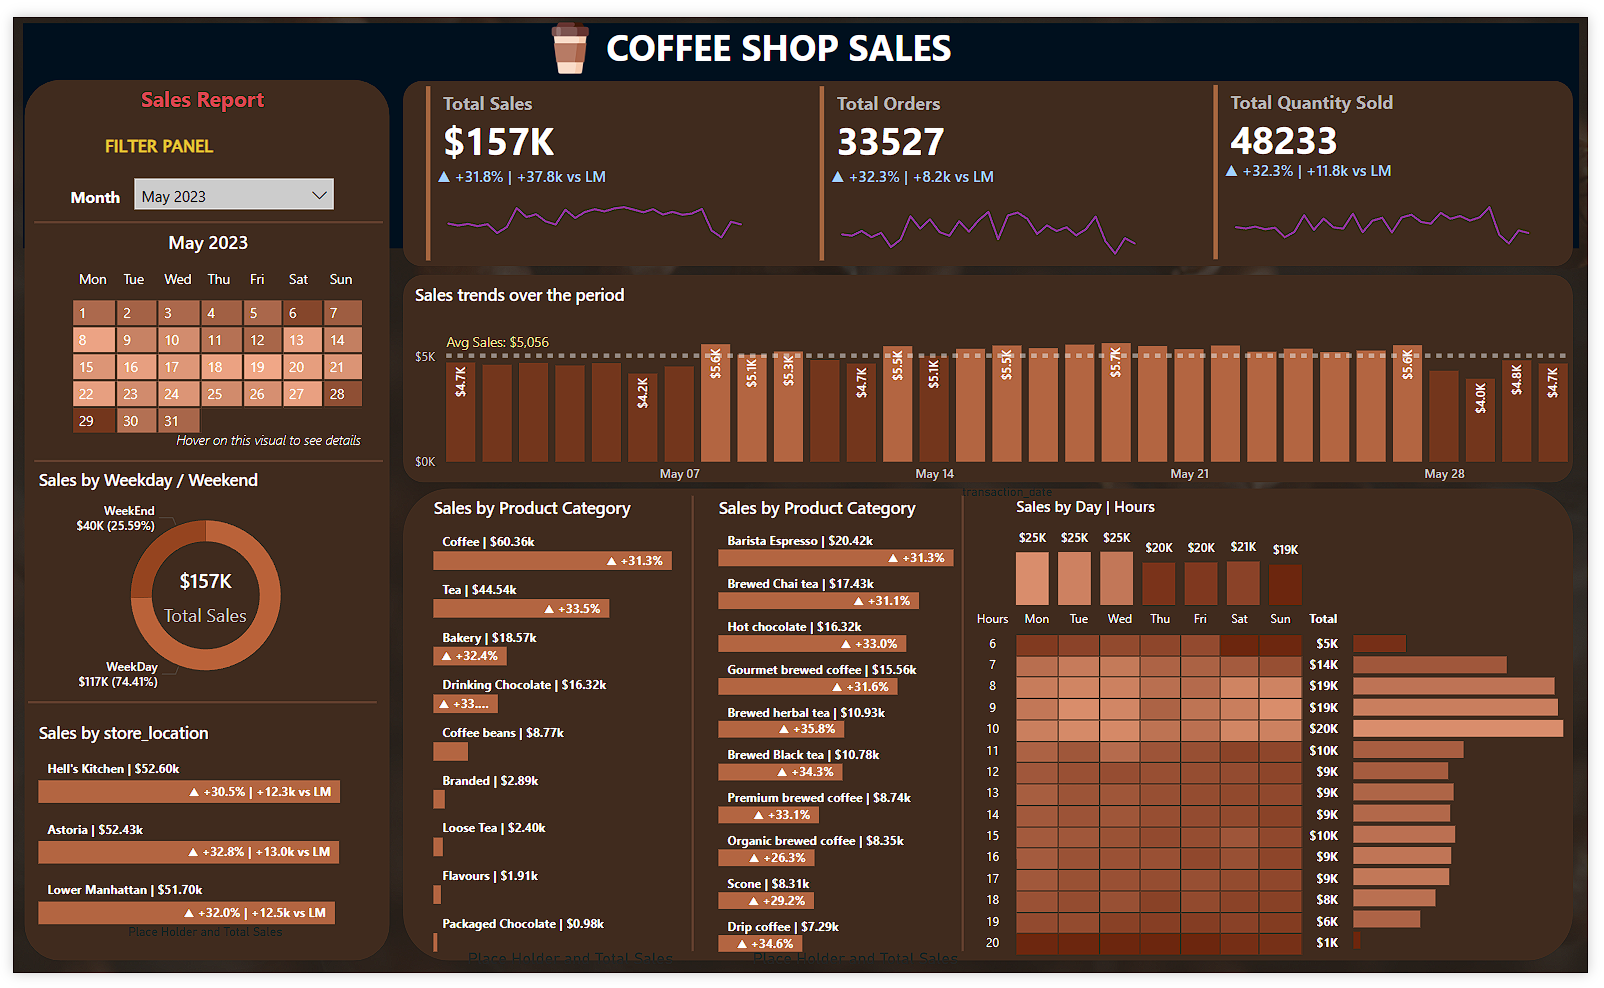

The page's visual inventory and layout, read from the dashboard file:
{"tool":"powerbi","page":{"name":"Coffeesales Report","canvas":[1400,850],"ordinal":0},"visuals":[{"type":"shape","box":[8.3,5,1383.3,200],"z":0},{"type":"shape","box":[10,55,325,783.3],"z":1000},{"type":"shape","box":[346.7,56.7,1040,165],"z":2000},{"type":"textbox","box":[521.7,0,350,53.3],"z":3000},{"type":"slicer","fields":{"Values":["Calender Table.Month Year"]},"box":[103.3,138.3,186.7,41.7],"z":4000},{"type":"cardVisual","fields":{"Data":["Transactions.Total Quantity Sold"]},"box":[1061.7,55.7,300,165],"z":5000,"group":"g3"},{"type":"cardVisual","fields":{"Data":["Transactions.Total Orders"]},"box":[711.7,56.4,300,165],"z":5000,"group":"g2"},{"type":"group","id":"g1","title":"Group 1","box":[361.7,56.7,300,165],"z":5000},{"type":"cardVisual","fields":{"Data":["Transactions.Total Sales"]},"box":[361.7,56.7,300,165],"z":5000,"group":"g1"},{"type":"group","id":"g2","title":"Group 1","box":[711.7,56.4,300,165],"z":6000},{"type":"lineChart","fields":{"Category":["Calender Table.Date.Variation.Date Hierarchy.Year","Calender Table.Date.Variation.Date Hierarchy.Quarter","Calender Table.Date.Variation.Date Hierarchy.Month","Calender Table.Date.Variation.Date Hierarchy.Day"],"Y":["Transactions.Total Quantity Sold"]},"box":[1071.7,126.3,290,85],"z":6000,"group":"g3"},{"type":"lineChart","fields":{"Category":["Calender Table.Date.Variation.Date Hierarchy.Year","Calender Table.Date.Variation.Date Hierarchy.Quarter","Calender Table.Date.Variation.Date Hierarchy.Month","Calender Table.Date.Variation.Date Hierarchy.Day"],"Y":["Transactions.Total Orders"]},"box":[721.7,131.4,290,85],"z":6000,"group":"g2"},{"type":"lineChart","fields":{"Category":["Calender Table.Date.Variation.Date Hierarchy.Year","Calender Table.Date.Variation.Date Hierarchy.Quarter","Calender Table.Date.Variation.Date Hierarchy.Month","Calender Table.Date.Variation.Date Hierarchy.Day"],"Y":["Transactions.Total Sales"]},"box":[371.7,131.7,290,85],"z":6000,"group":"g1"},{"type":"group","id":"g3","title":"Group 1","box":[1061.7,55.7,300,165],"z":7000},{"type":"pivotTable","fields":{"Rows":["Calender Table.Week Number"],"Columns":["Calender Table.Day Name"],"Values":["Min(Calender Table.Day Number)"]},"box":[22.5,216.2,302.5,178.8],"z":8000},{"type":"card","fields":{"Values":["Min(Calender Table.Month Year)"]},"box":[128.8,182.5,90,40],"z":9000},{"type":"card","fields":{"Values":["Transactions.Foot Note"]},"box":[131.2,360,192.5,37.5],"z":10000},{"type":"shape","box":[18.8,387.5,310,13.8],"z":11000},{"type":"shape","box":[18.8,175,310,13.8],"z":12000},{"type":"donutChart","title":"Sales by Weekday / Weekend","fields":{"Category":["Calender Table.Weekday / Weekend"],"Y":["Transactions.Total Sales"]},"box":[17.5,401.2,307.5,206.2],"z":13000},{"type":"card","fields":{"Values":["Transactions.Total Sales"]},"box":[126.2,482.5,88.8,63.8],"z":14000},{"type":"shape","box":[13.8,602.5,310,13.8],"z":15000},{"type":"clusteredBarChart","title":"Sales by store_location","fields":{"Y":["Transactions.Place Holder","Transactions.Total Sales"],"Category":["Transactions.store_location"]},"box":[17.5,625,306.2,198.8],"z":16000},{"type":"shape","box":[346.7,228.3,1040,185],"z":17000},{"type":"shape","box":[346.7,418.3,1040,420],"z":18000},{"type":"columnChart","title":"Sales trends over the period","fields":{"Category":["Transactions.transaction_date"],"Y":["Transactions.Total Sales"]},"box":[351.7,236.7,1040,196.7],"z":19000},{"type":"clusteredBarChart","title":"Sales by Product Category","fields":{"Y":["Transactions.Place Holder","Transactions.Total Sales"],"Category":["Transactions.product_category"]},"box":[368.3,425,253.3,425],"z":20000},{"type":"shape","box":[586.7,425,35,405],"z":21000},{"type":"clusteredBarChart","title":"Sales by Product Category","fields":{"Y":["Transactions.Place Holder","Transactions.Total Sales"],"Category":["Transactions.product_type"]},"box":[621.7,425,253.3,425],"z":22000},{"type":"shape","box":[826.7,425,35,405],"z":23000},{"type":"pivotTable","fields":{"Rows":["Transactions.Hours"],"Values":["Transactions.Total Sales"],"Columns":["Calender Table.Day Name"]},"box":[845,521.7,355,320],"z":24000},{"type":"barChart","fields":{"Category":["Transactions.Hours"],"Y":["Transactions.Total Sales"]},"box":[1186.7,536.7,200,296.7],"z":25000},{"type":"clusteredColumnChart","title":"Sales by Day | Hours","fields":{"Y":["Transactions.Total Sales"],"Category":["Calender Table.Day Name"]},"box":[886.7,425,265,103.3],"z":26000},{"type":"textbox","box":[36.7,143.3,80,30],"z":27000},{"type":"textbox","box":[103.3,55,130,43.3],"z":28000},{"type":"textbox","box":[61.7,98.3,135,40],"z":29000},{"type":"image","box":[458.3,0,73.3,55],"z":30000}]}

Visuals, with their boxes in screenshot pixels (x1, y1, x2, y2), scaled from the page's 1400x850 canvas onto the 1604x988 screenshot:
shape: box=[10, 6, 1594, 238]
shape: box=[11, 64, 384, 974]
shape: box=[397, 66, 1589, 258]
textbox: box=[598, 0, 999, 62]
slicer - Calender Table.Month Year: box=[118, 161, 332, 209]
cardVisual - Transactions.Total Quantity Sold: box=[1216, 65, 1560, 257]
cardVisual - Transactions.Total Orders: box=[815, 66, 1159, 257]
"Group 1" group: box=[414, 66, 758, 258]
cardVisual - Transactions.Total Sales: box=[414, 66, 758, 258]
"Group 1" group: box=[815, 66, 1159, 257]
lineChart - Calender Table.Date.Variation.Date Hierarchy.Year x Calender Table.Date.Variation.Date Hierarchy.Quarter: box=[1228, 147, 1560, 246]
lineChart - Calender Table.Date.Variation.Date Hierarchy.Year x Calender Table.Date.Variation.Date Hierarchy.Quarter: box=[827, 153, 1159, 252]
lineChart - Calender Table.Date.Variation.Date Hierarchy.Year x Calender Table.Date.Variation.Date Hierarchy.Quarter: box=[426, 153, 758, 252]
"Group 1" group: box=[1216, 65, 1560, 257]
pivotTable - Calender Table.Week Number x Calender Table.Day Name: box=[26, 251, 372, 459]
card - Min(Calender Table.Month Year): box=[148, 212, 251, 259]
card - Transactions.Foot Note: box=[150, 418, 371, 462]
shape: box=[22, 450, 377, 466]
shape: box=[22, 203, 377, 219]
"Sales by Weekday / Weekend" donutChart: box=[20, 466, 372, 706]
card - Transactions.Total Sales: box=[145, 561, 246, 635]
shape: box=[16, 700, 371, 716]
"Sales by store_location" clusteredBarChart: box=[20, 726, 371, 958]
shape: box=[397, 265, 1589, 480]
shape: box=[397, 486, 1589, 974]
"Sales trends over the period" columnChart: box=[403, 275, 1594, 504]
"Sales by Product Category" clusteredBarChart: box=[422, 494, 712, 987]
shape: box=[672, 494, 712, 965]
"Sales by Product Category" clusteredBarChart: box=[712, 494, 1002, 987]
shape: box=[947, 494, 987, 965]
pivotTable - Transactions.Hours x Transactions.Total Sales: box=[968, 606, 1375, 978]
barChart - Transactions.Hours x Transactions.Total Sales: box=[1360, 624, 1589, 969]
"Sales by Day | Hours" clusteredColumnChart: box=[1016, 494, 1320, 614]
textbox: box=[42, 167, 134, 201]
textbox: box=[118, 64, 267, 114]
textbox: box=[71, 114, 225, 161]
image: box=[525, 0, 609, 64]
